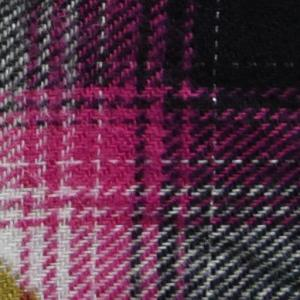Damage: (1, 257, 44, 300)
Wrinkle: (162, 207, 300, 300)
